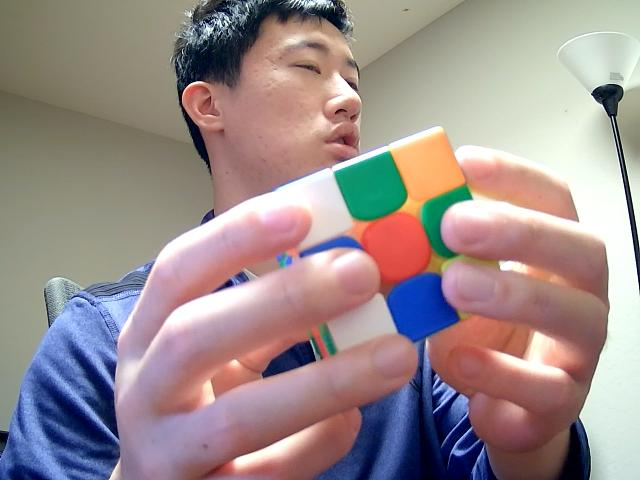Rubiks-Cube: (263, 120, 520, 379)
